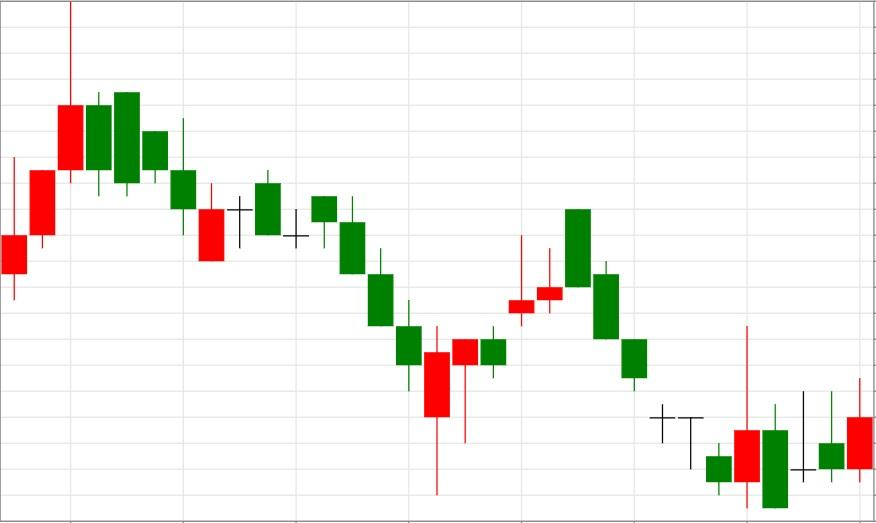three_black_crows_fall: (197, 169, 394, 328)
